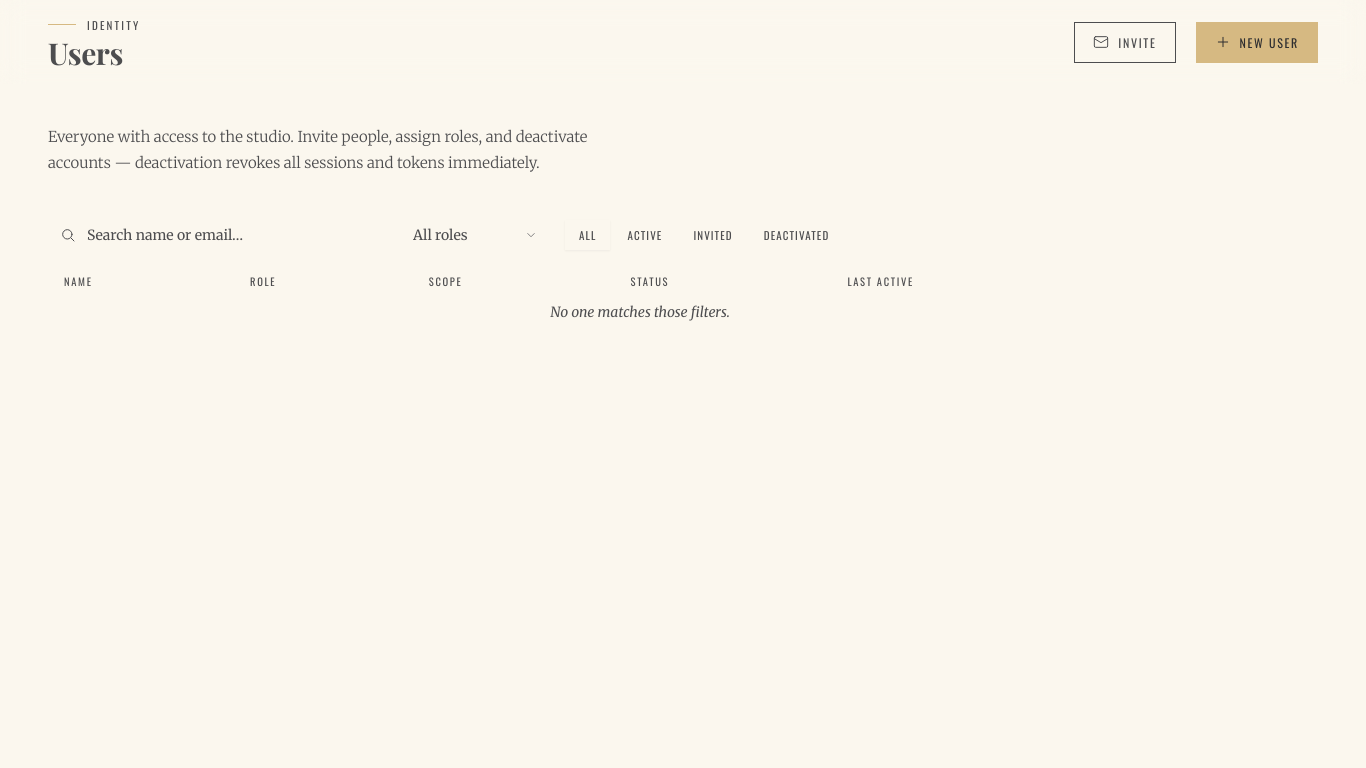
Test: UsersPage — manual create › blocks a weak password client-side (no request)
The width and height of the screenshot is (1366, 768).
Click the button "New user" at (1257, 42), box [1196, 22, 1318, 62]
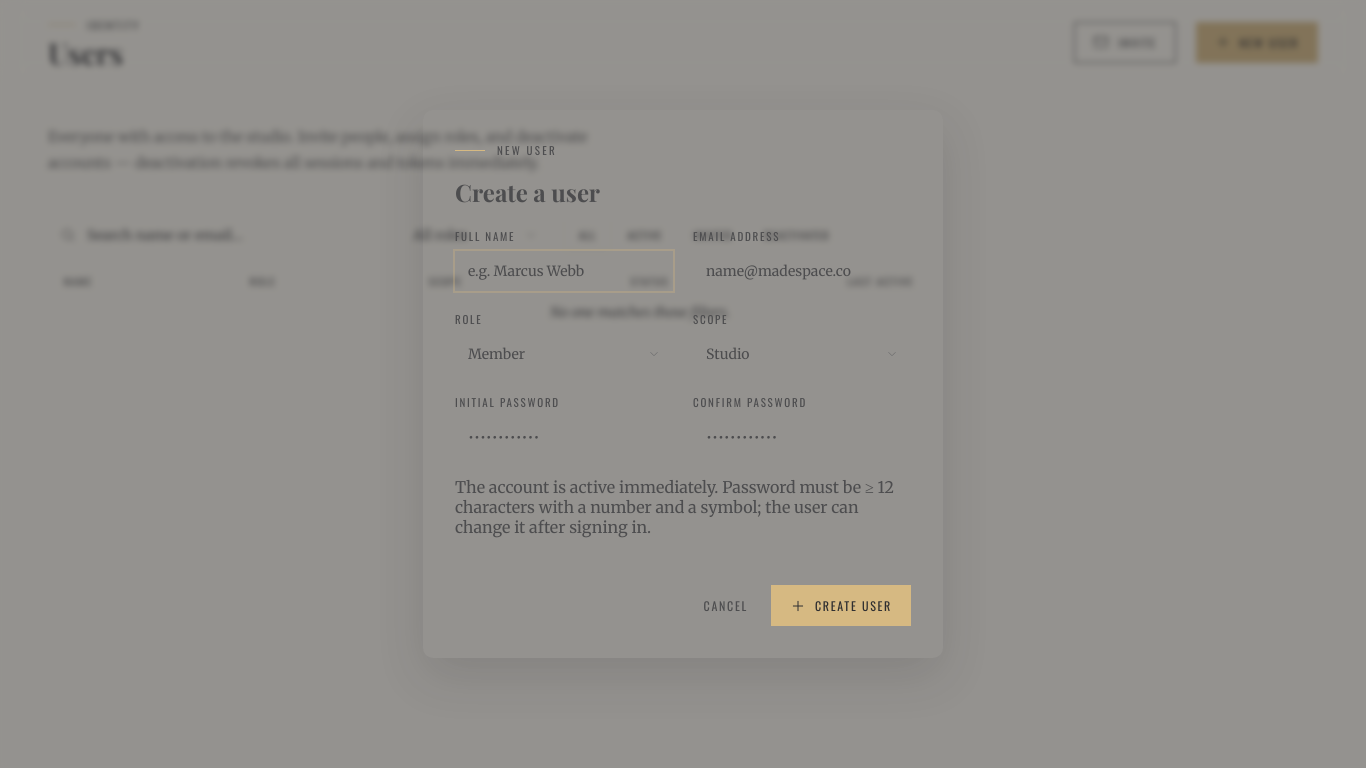
Type "Weak" into the field labelled "Full name" at (564, 271), box [455, 251, 673, 291]
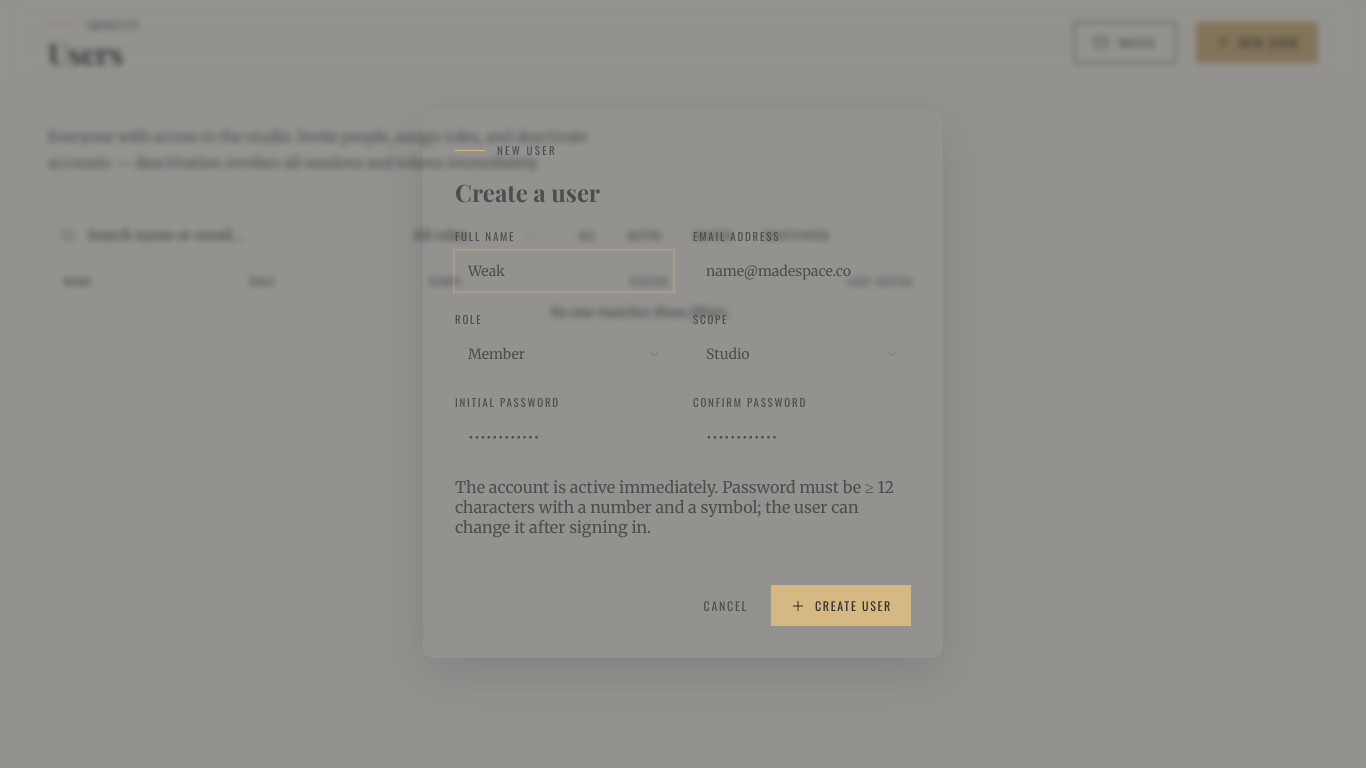
Type "weak@madespace.co" into the field labelled "Email address" at (802, 271), box [693, 251, 911, 291]
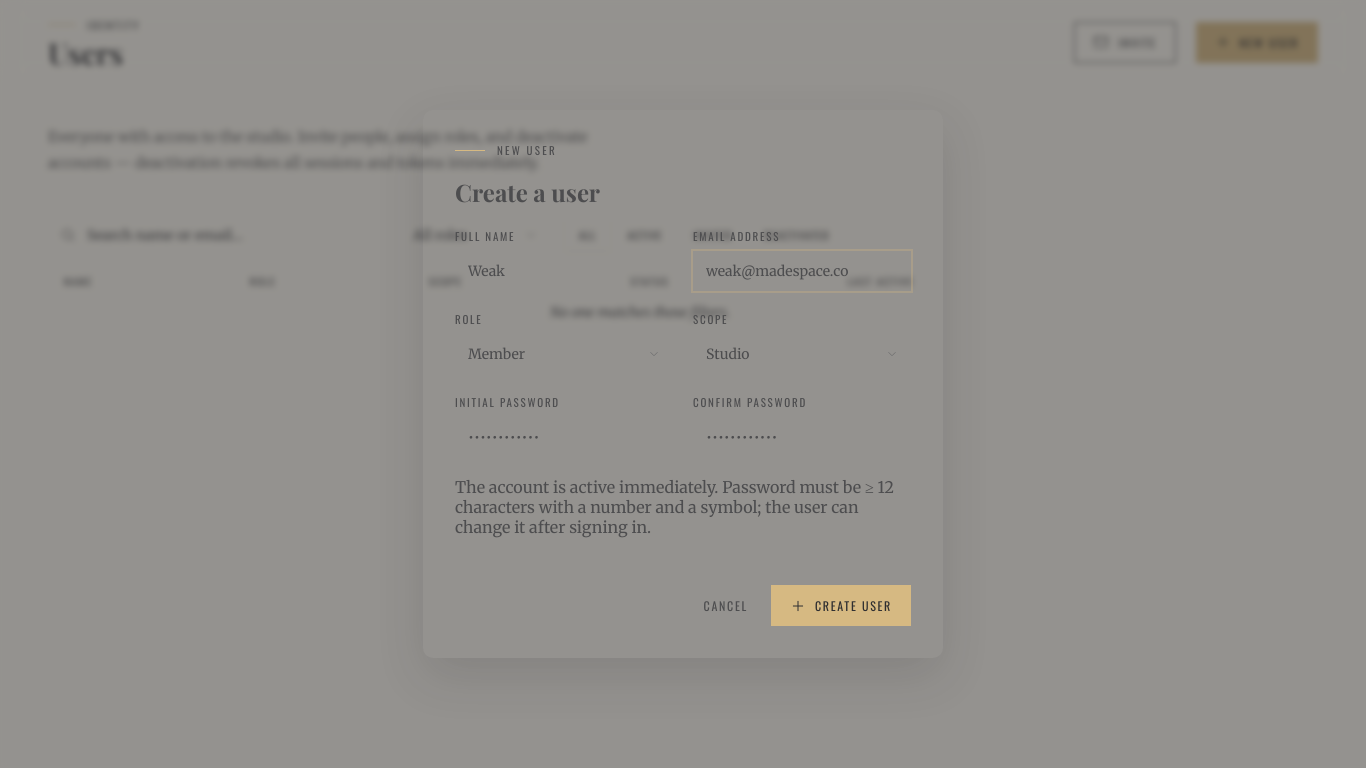
Type "short" into the password field labelled "Initial password" at (564, 437), box [455, 417, 673, 457]
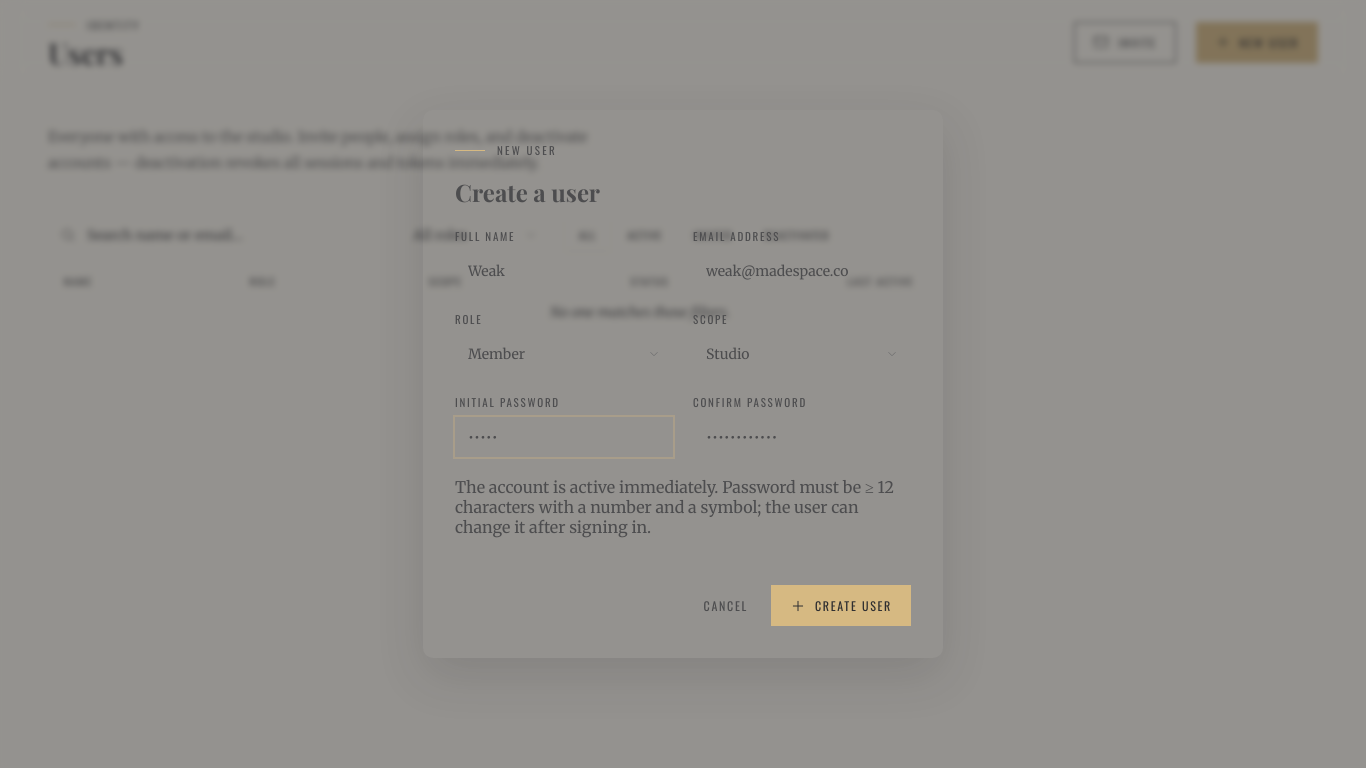
Type "short" into the password field labelled "Confirm password" at (802, 437), box [693, 417, 911, 457]
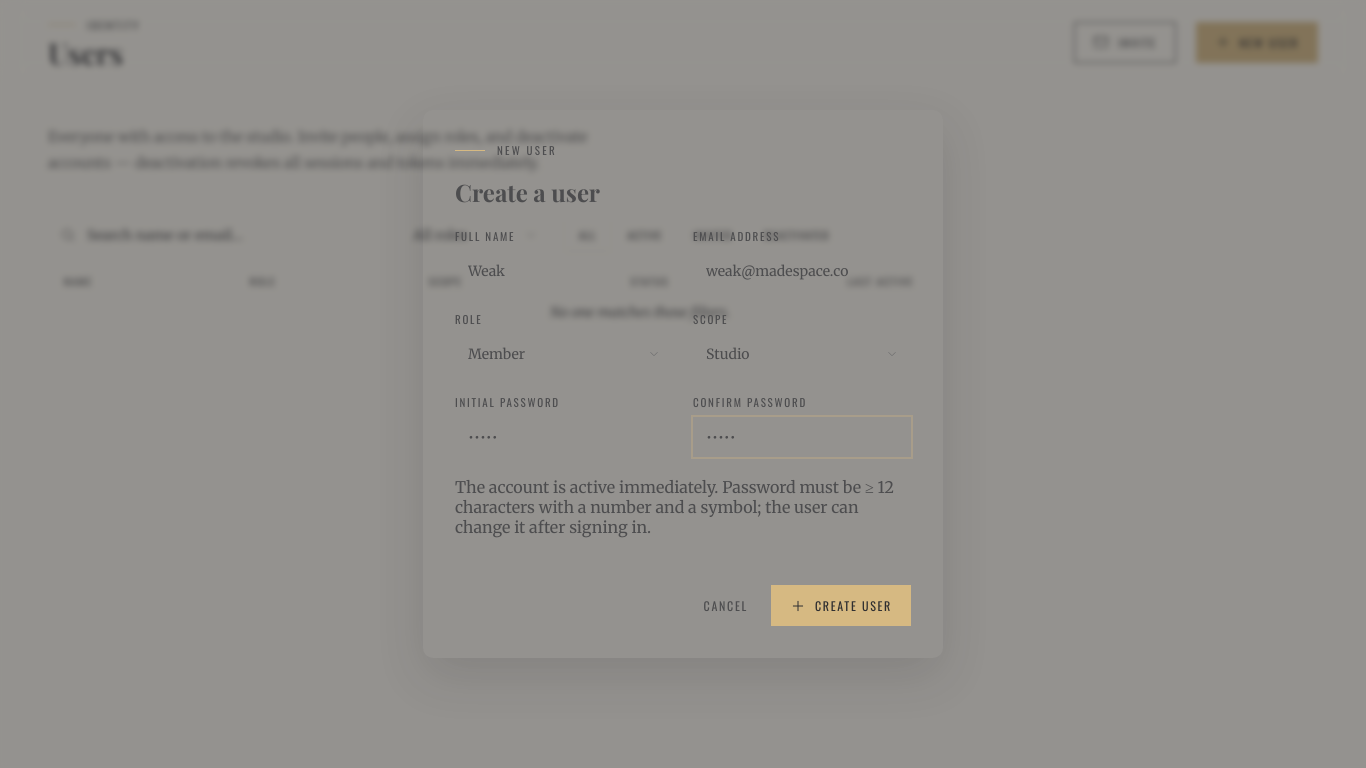
Click the button "Create user" at (841, 606), box [771, 585, 911, 626]
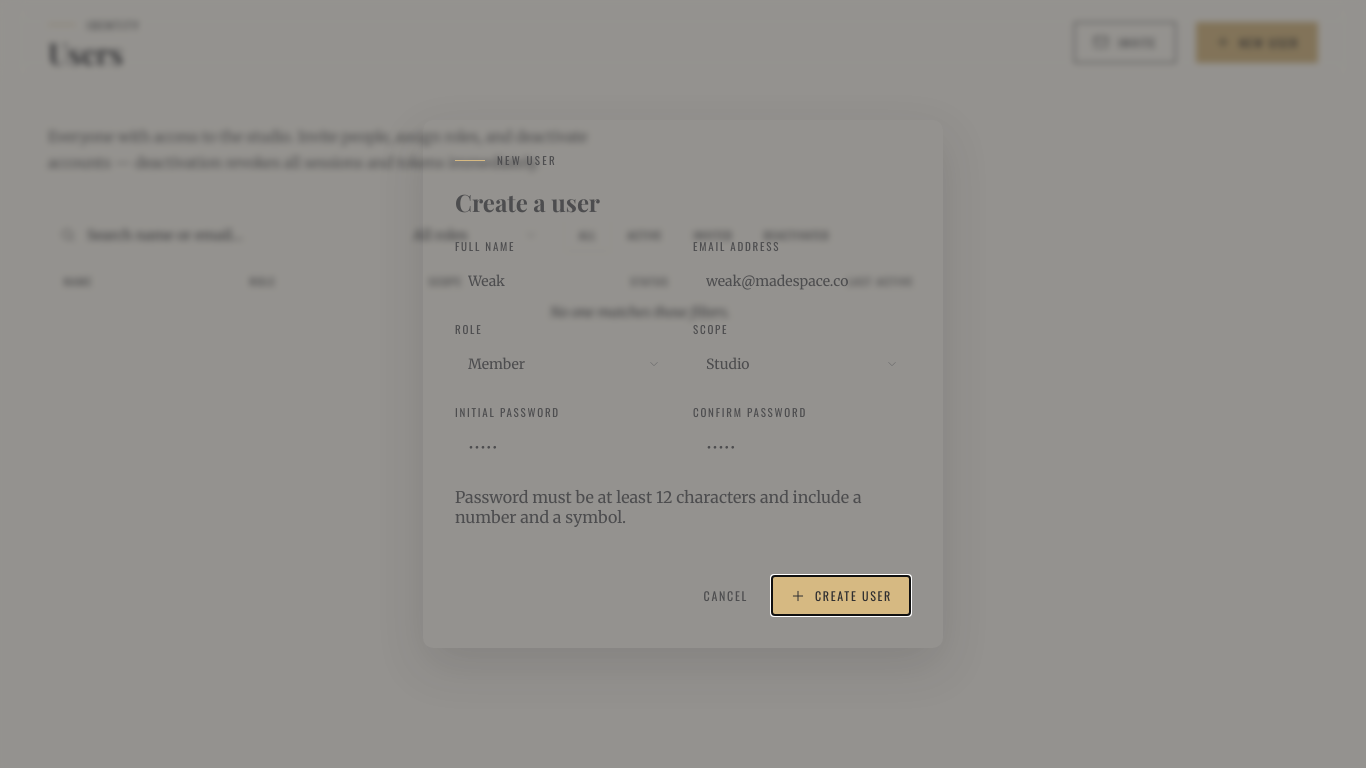
Result: the text "at least 12 characters" is shown at [455, 487, 862, 527]
